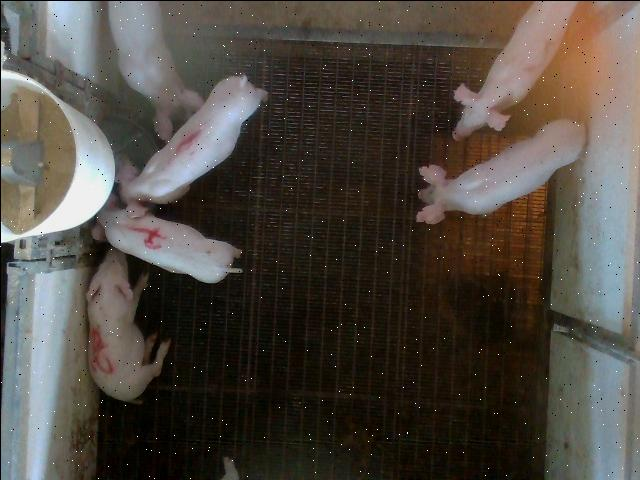pig-1: (115, 75, 265, 216)
pig-2: (451, 1, 576, 139)
pig-4: (98, 207, 241, 282)
pig-5: (86, 247, 170, 402)
